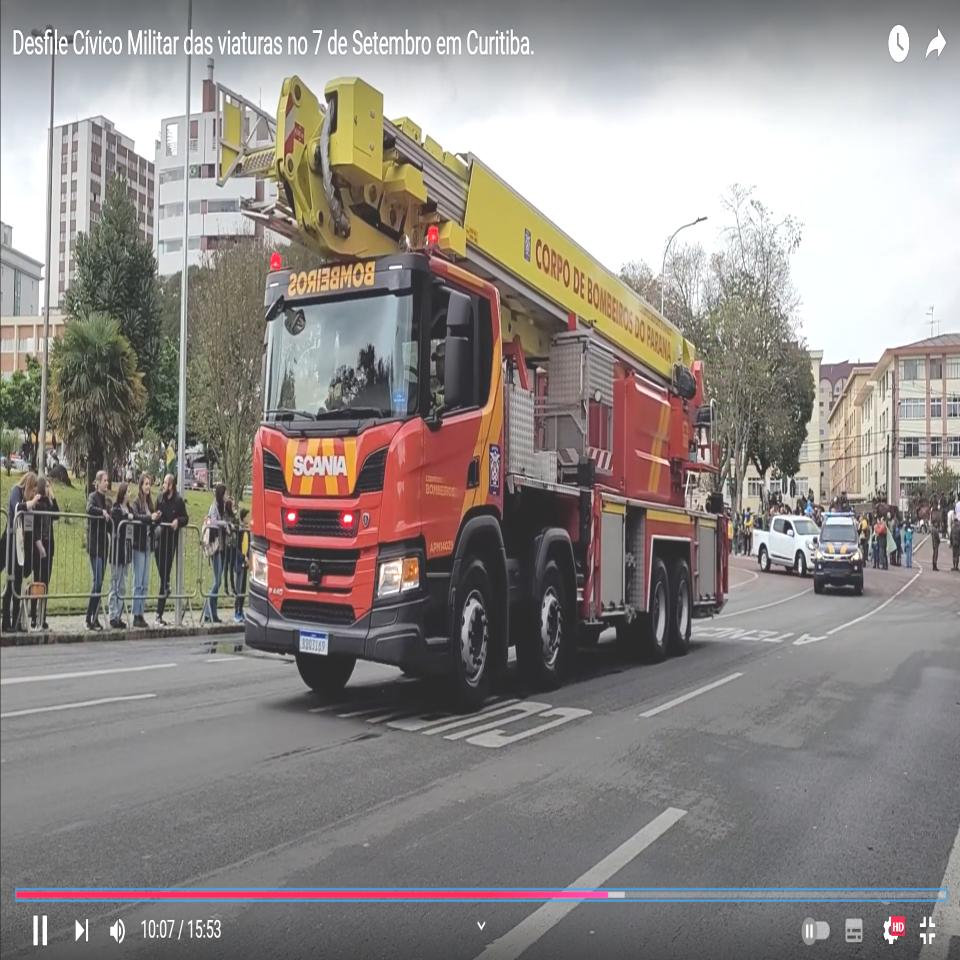bombeiro: (214, 78, 727, 714)
